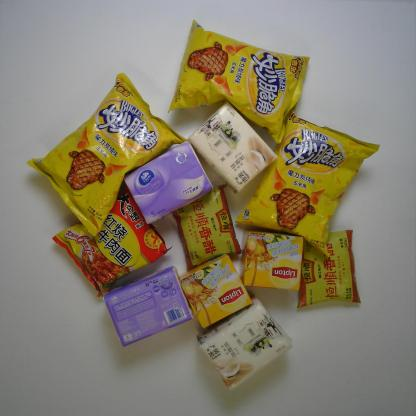Instant Drink: (177, 252, 255, 330), (240, 229, 308, 294)
Instant Noodles: (49, 185, 177, 301)
Puffed Food: (24, 69, 190, 237), (236, 109, 381, 258), (166, 19, 310, 144)
Seasoner: (169, 182, 243, 272), (291, 228, 361, 309)
Tissue: (194, 292, 295, 392), (184, 99, 279, 194), (121, 140, 214, 228), (100, 264, 193, 348)
